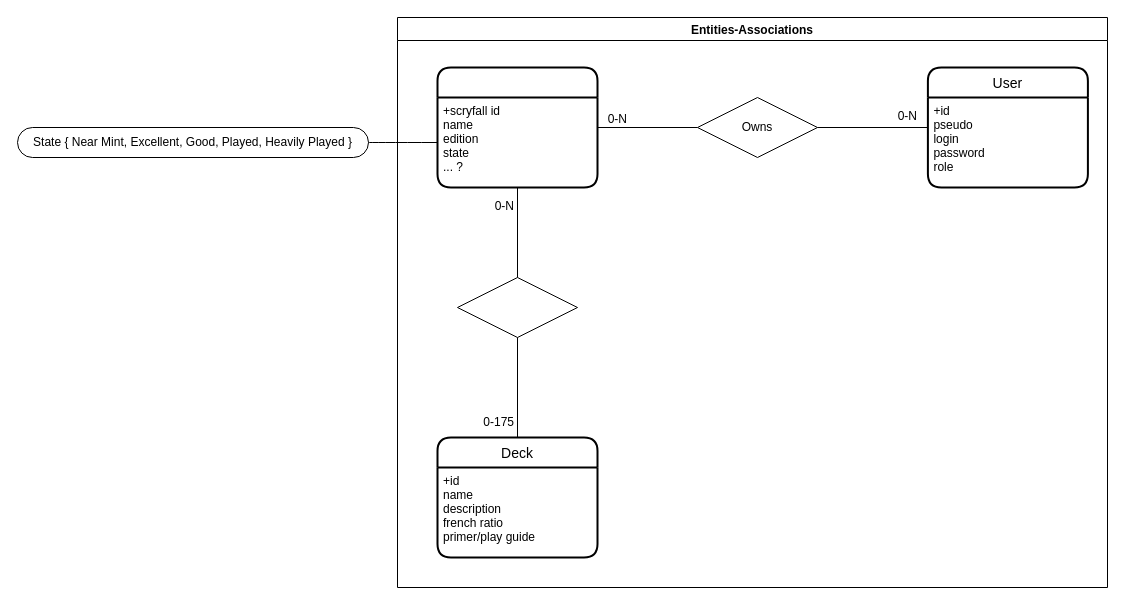
Image size: 1125x605. Some labels were removed from this diagram. Each missing label, with the box of its shape:
Card: (436, 66, 598, 188)
Composes: (456, 276, 578, 338)
